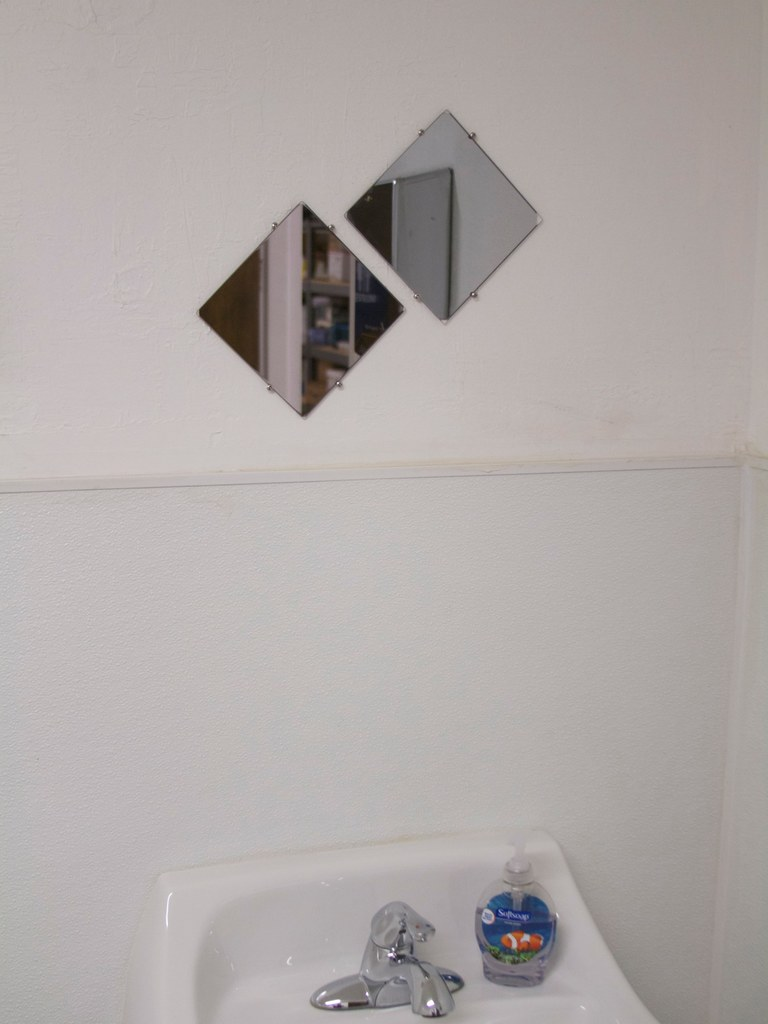tap: (334, 913, 459, 1010)
